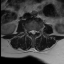CCS_normal: (32, 28, 34, 38)
LFS_normal: (37, 28, 39, 35)
LLS_stenosis: (34, 28, 37, 35)
RFS_normal: (27, 28, 30, 35)
RLS_normal: (30, 28, 32, 35)
